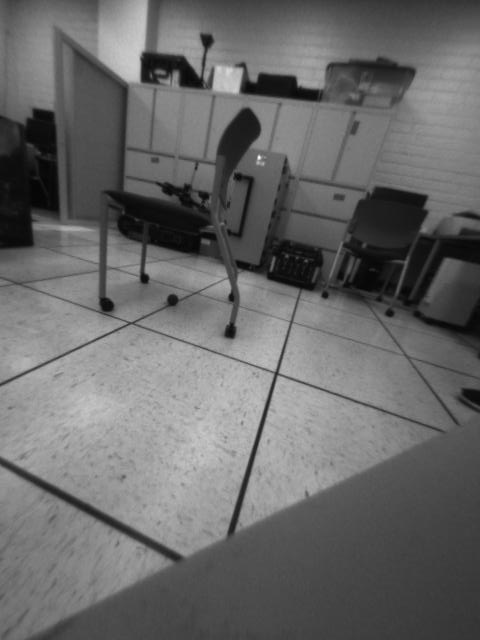dogtoy: (161, 290, 185, 309)
